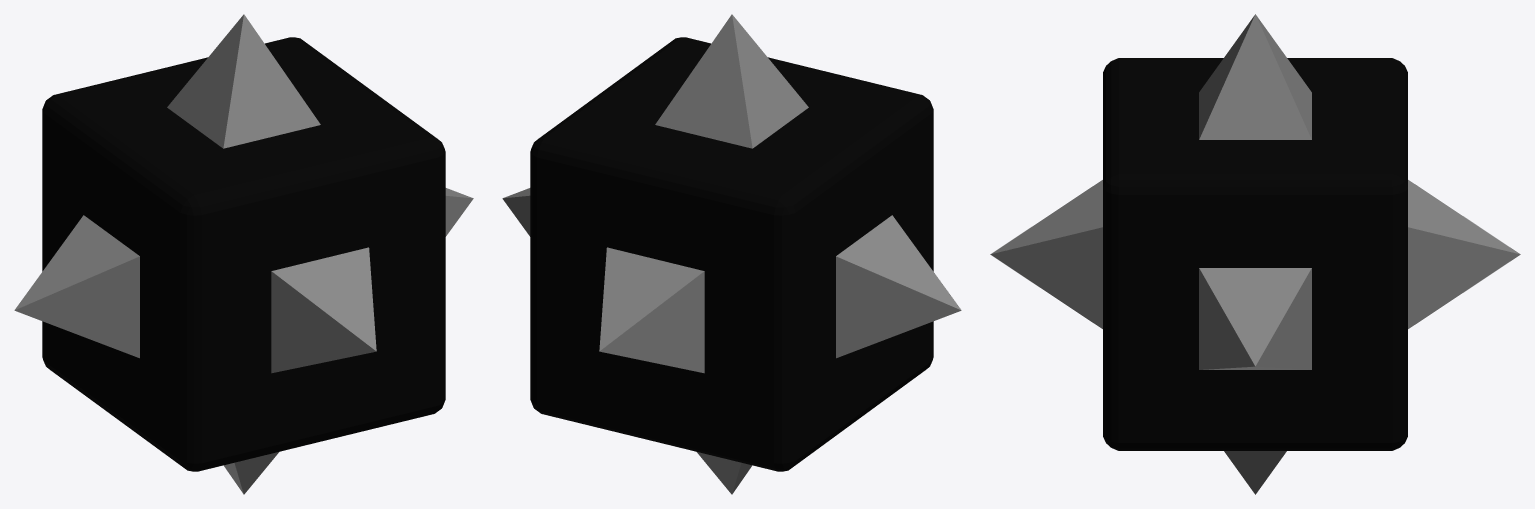
Rendered from SpikeCube1.fbx.
3 views of the same model, side by side, from view 1: azimuth 30°, elevation 25°; view 2: azimuth 150°, elevation 25°; view 3: azimuth 270°, elevation 25° (orthographic).
Parts seen in each view (by area): view 1: Cube; view 2: Cube; view 3: Cube.
Boxes of the visible parts, bbox=[...] form: Cube: bbox=[14, 14, 473, 494]; Cube: bbox=[502, 14, 961, 494]; Cube: bbox=[990, 14, 1520, 494].
Size of the model in its own units: 348 by 348 by 348.
